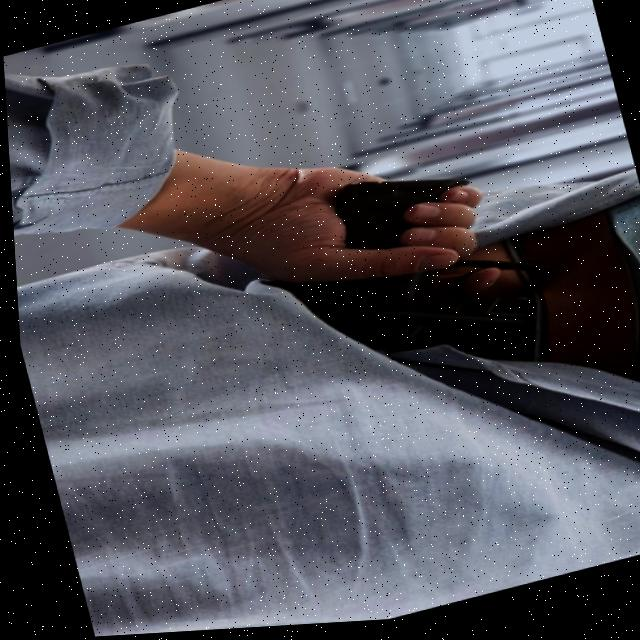pistol: (254, 214, 573, 420)
